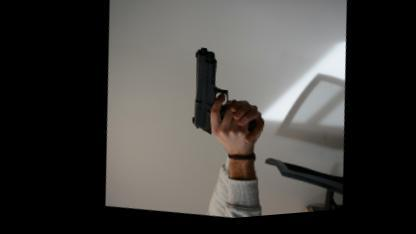pistol: (175, 45, 265, 148)
